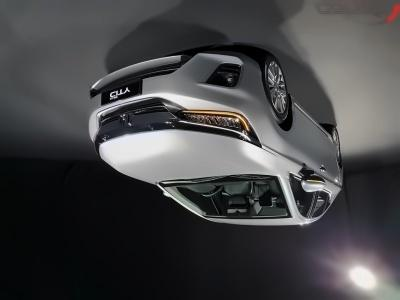Car hood: (97, 127, 278, 186)
Driver-s door - -F-R-: (291, 101, 318, 222)
Fender - -F-R-: (260, 101, 295, 183)
Front bumper: (85, 45, 278, 126)
Headlight - -R-: (171, 106, 265, 150)
Passenger-s door - -R-R-: (310, 120, 341, 222)
Side bumper - -R-: (288, 92, 335, 146)
Side mirror - -R-: (297, 165, 328, 195)
